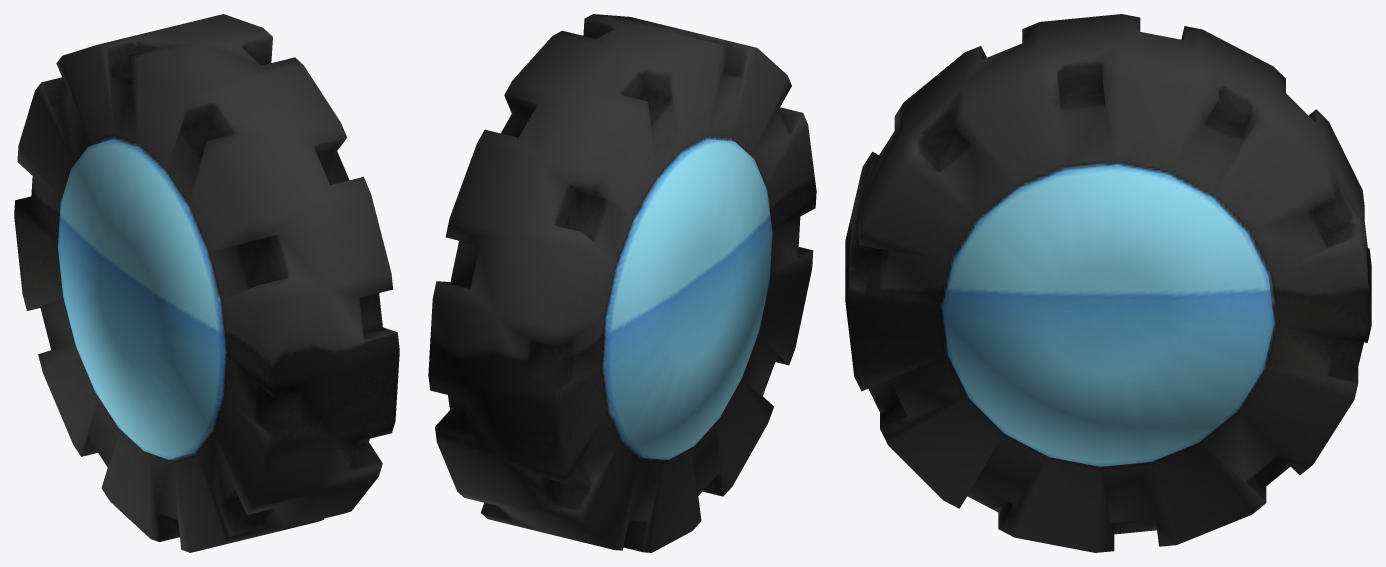
Rendered from wheelR.glb.
3 renders of one model, left to right at view 1: azimuth 30°, elevation 25°; view 2: azimuth 150°, elevation 25°; view 3: azimuth 270°, elevation 25°, orthographic.
Parts seen in each view (by area): view 1: Cube.005_moto_0; view 2: Cube.005_moto_0; view 3: Cube.005_moto_0.
Part boxes in pixels (x1,y1,x2,y2): Cube.005_moto_0: (14,14,399,552); Cube.005_moto_0: (428,14,816,552); Cube.005_moto_0: (845,14,1371,552).
Bounding box in the file's own units: 51.64 × 148 × 148.
1 material, 1 textured.
